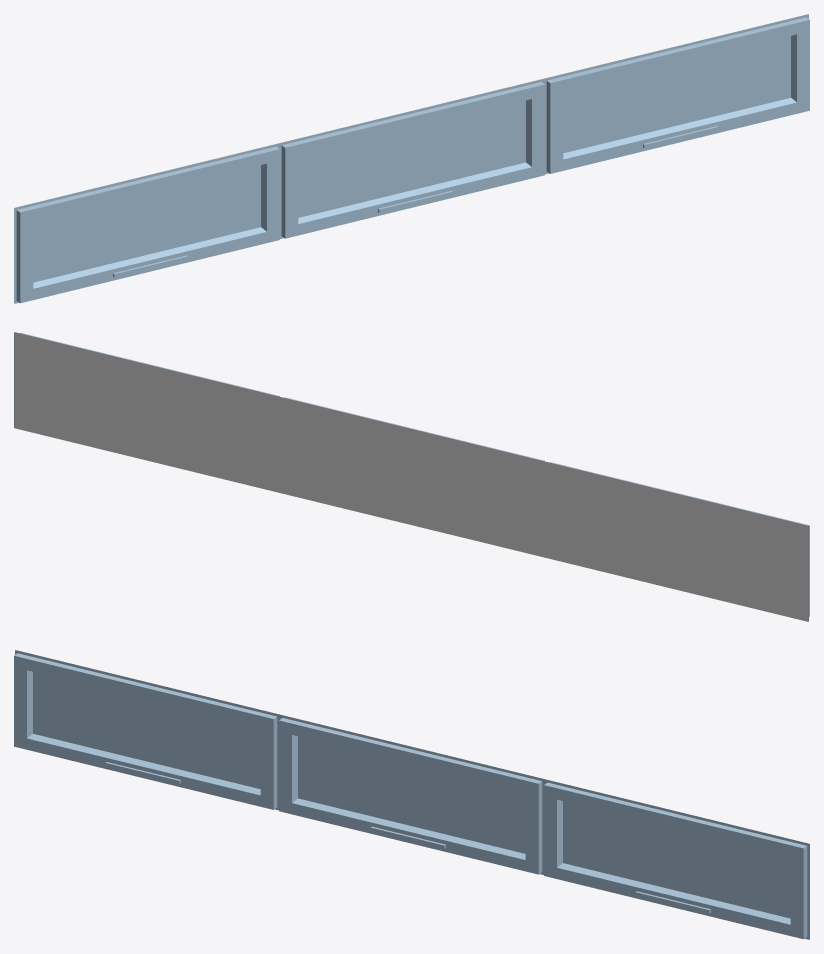
The model's file is Szafki.fbx.
3 views of the same model, one above another, from view 1: azimuth 30°, elevation 25°; view 2: azimuth 150°, elevation 25°; view 3: azimuth 330°, elevation 25° (orthographic).
Parts seen in each view (by area): view 1: Furniture, Cube; view 2: Cube, Furniture; view 3: Furniture, Cube.
Part boxes in pixels (box(x1,y1,x2,y2)): Furniture: box(14, 14, 809, 303); Cube: box(15, 14, 807, 303); Cube: box(14, 332, 808, 621); Furniture: box(14, 332, 809, 621); Furniture: box(14, 650, 809, 939); Cube: box(16, 650, 808, 939).
Size of the model in its own units: 1297 by 150 by 13.71.
